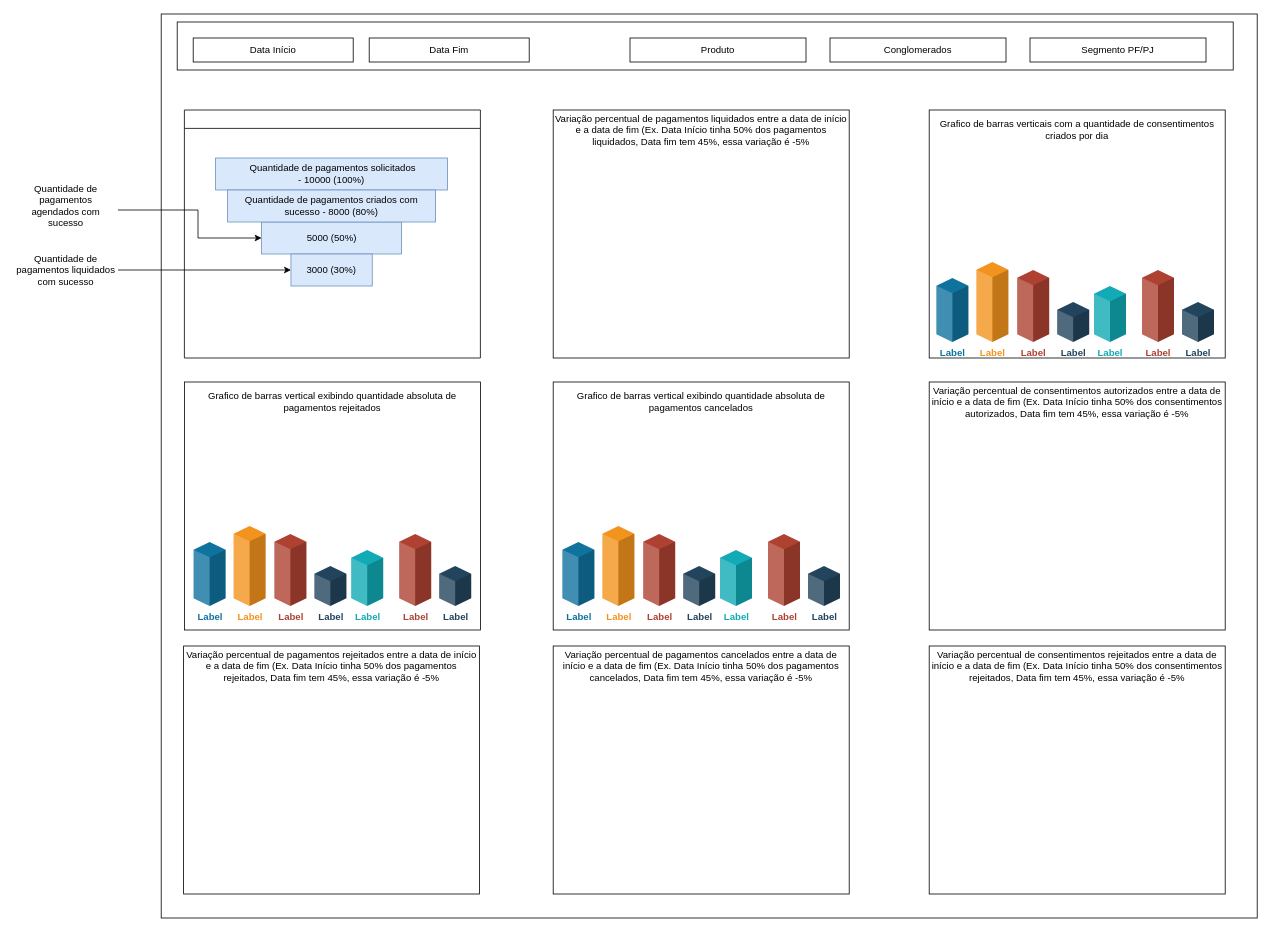
Image size: 1271x932. Some labels were removed from this diagram. The shapes that lost their labels are listed below. From the top down, each one's box as (x1, y1, x2, y2) in pixels, then its label:
(176, 21, 1233, 70): Filtros
(184, 109, 480, 358): Funil - Valores Absolutos Pagamentos(% Valores Percentuais)
